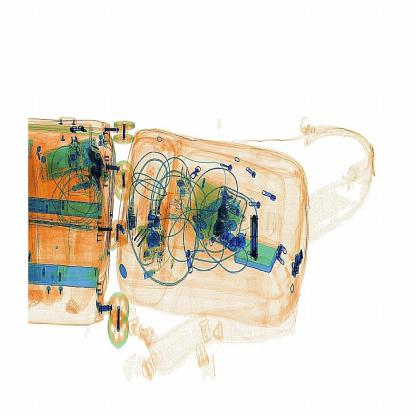scissors: (246, 207, 268, 264)
